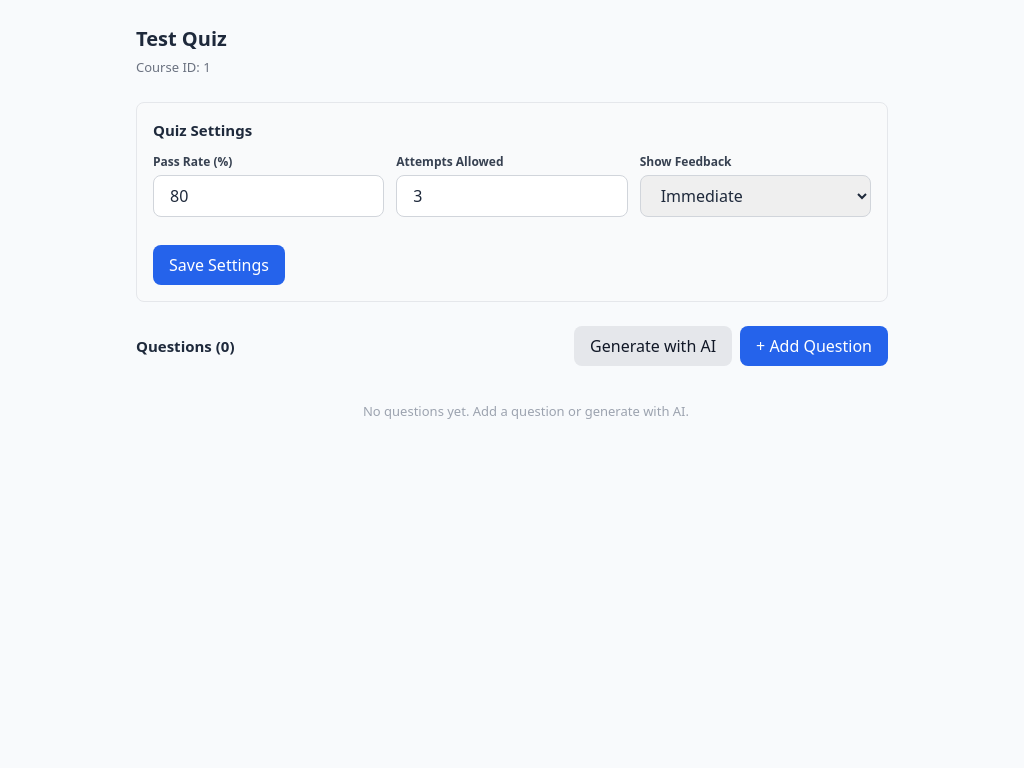
QuizBuilderPage › opens SideDrawer when AI Generate button is clicked
Click the button with test id "ai-generate-btn".
click(653, 346)  # box [574,326,732,366]
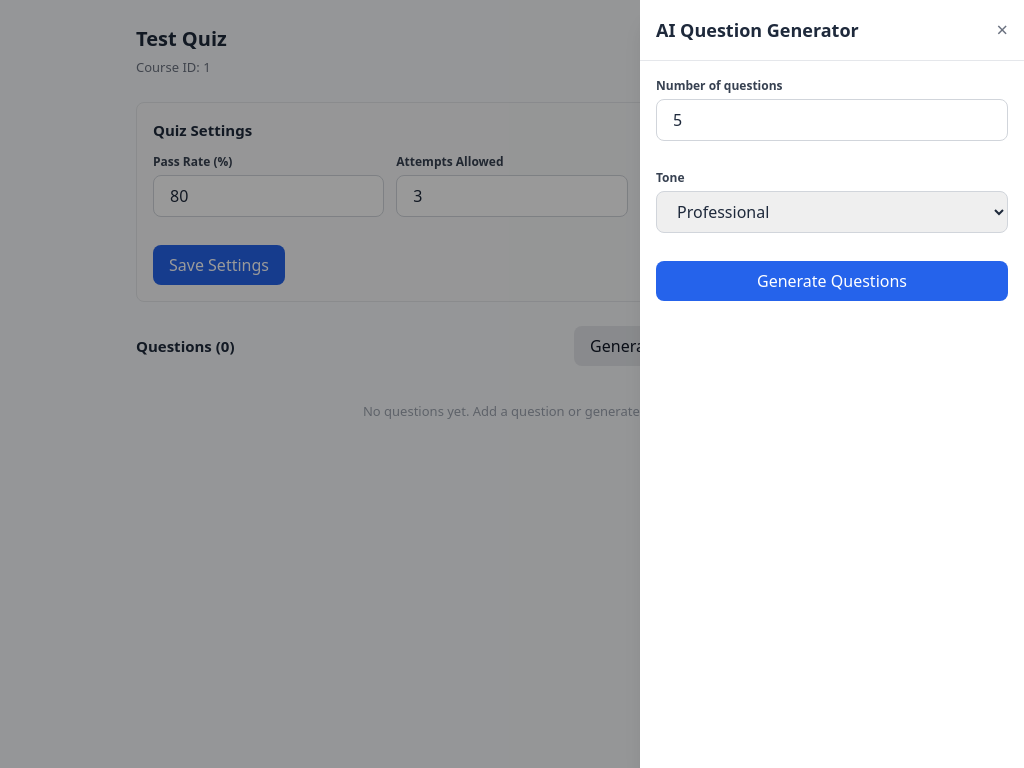
Expected: the element with test id "side-drawer" is shown, [640,0,1023,767]
Expected: the button with test id "generate-questions-btn" is shown, [656,261,1008,301]
